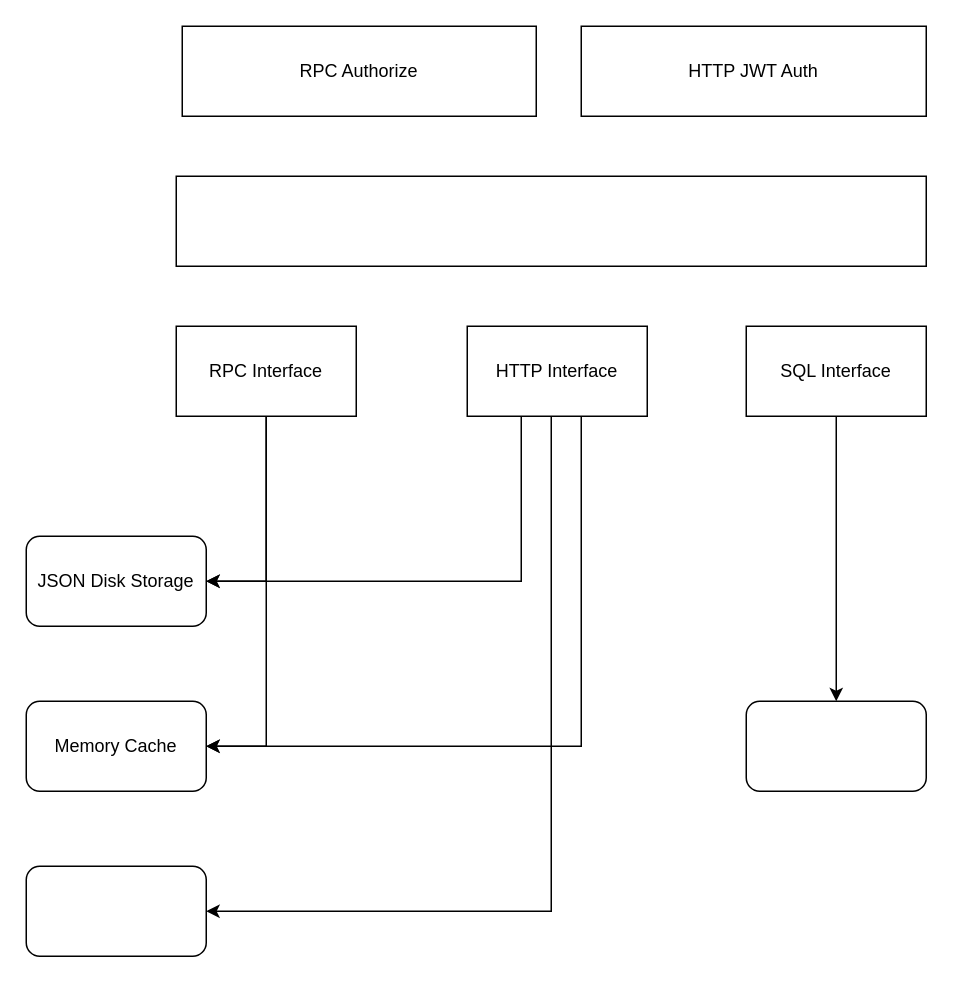
This 953x983 diagram has some shape labels left out. Each missing label, with the box of its shape:
Datahub Interface: (175, 175, 926, 266)
File Storage: (25, 865, 206, 956)
SQLite: (745, 700, 926, 791)
